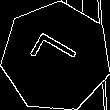L_SE: (26, 31, 86, 83)
